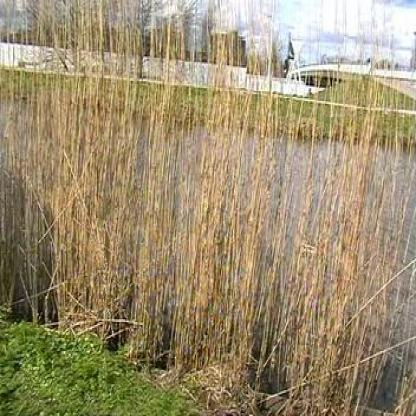other: (9, 40, 401, 350)
